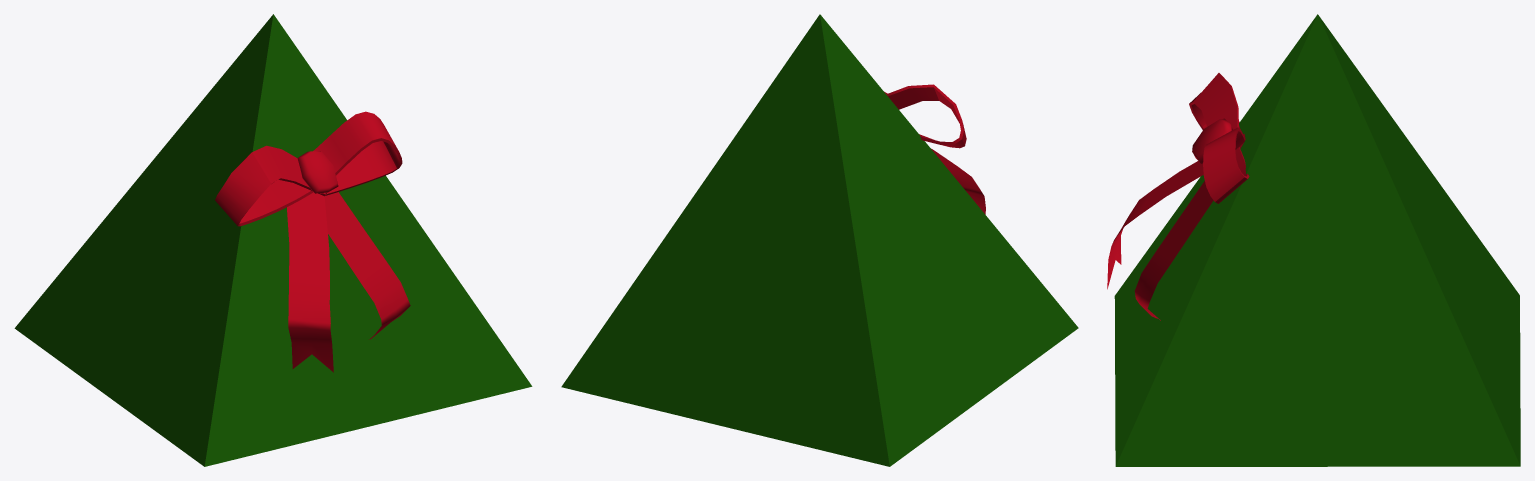
Rendered from pyramidPresent.fbx.
The picture shows the model from 3 angles, left to right: view 1: azimuth 30°, elevation 25°; view 2: azimuth 150°, elevation 25°; view 3: azimuth 270°, elevation 25°; orthographic projection. The views are drawn at different scales.
Parts seen in each view (by area): view 1: pyramidPresent; view 2: pyramidPresent; view 3: pyramidPresent.
Boxes of the visible parts, <box> form: pyramidPresent: <box>14,14,532,466</box>; pyramidPresent: <box>561,14,1078,466</box>; pyramidPresent: <box>1107,14,1520,466</box>.
Size of the model in its own units: 1 by 1 by 1.02.
